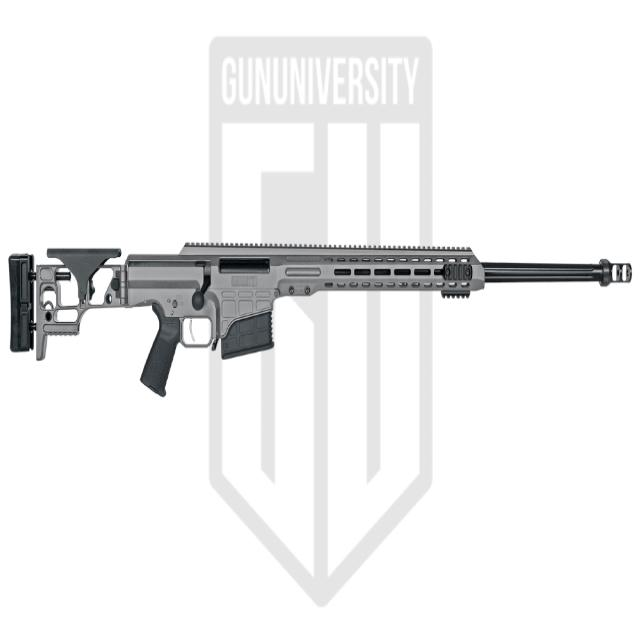Rifle: (8, 245, 633, 396)
